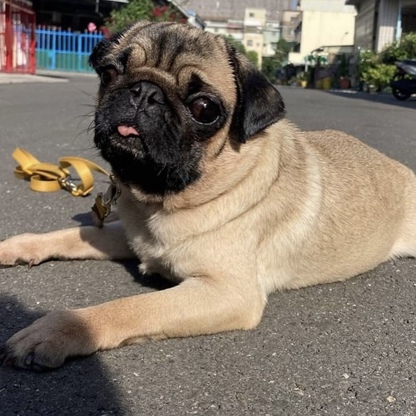Pug: (1, 15, 414, 371)
